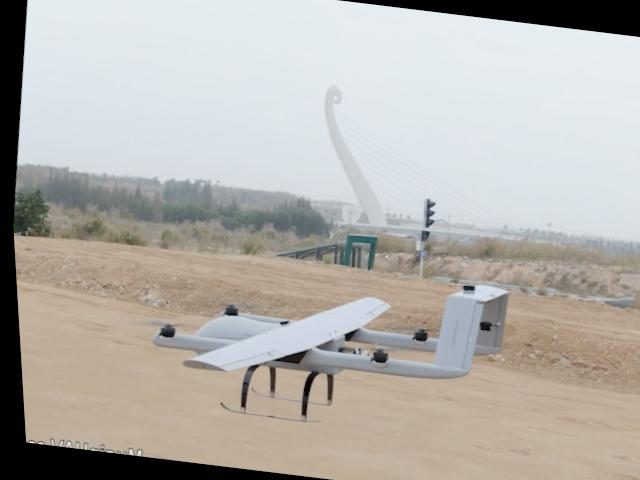plane: (134, 237, 513, 444)
